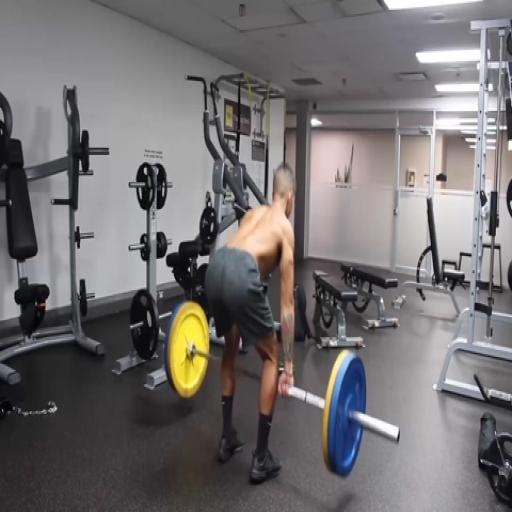exercise: (202, 160, 300, 486)
